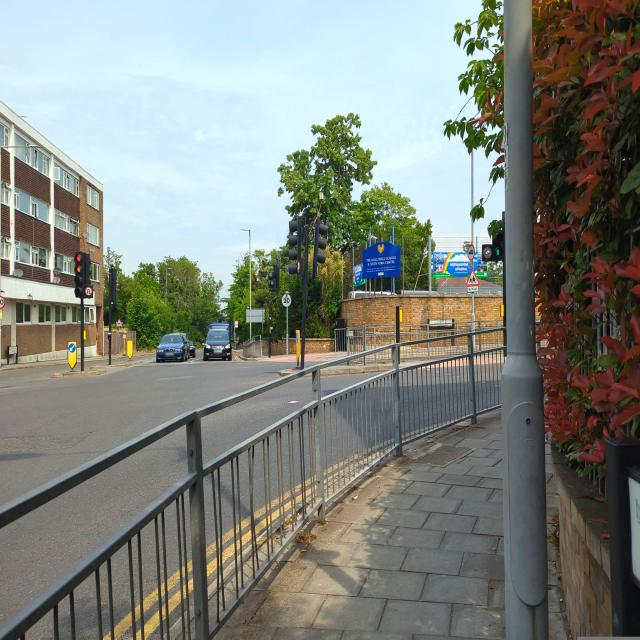car: (155, 332, 189, 363), (203, 328, 233, 362), (186, 339, 197, 358)
